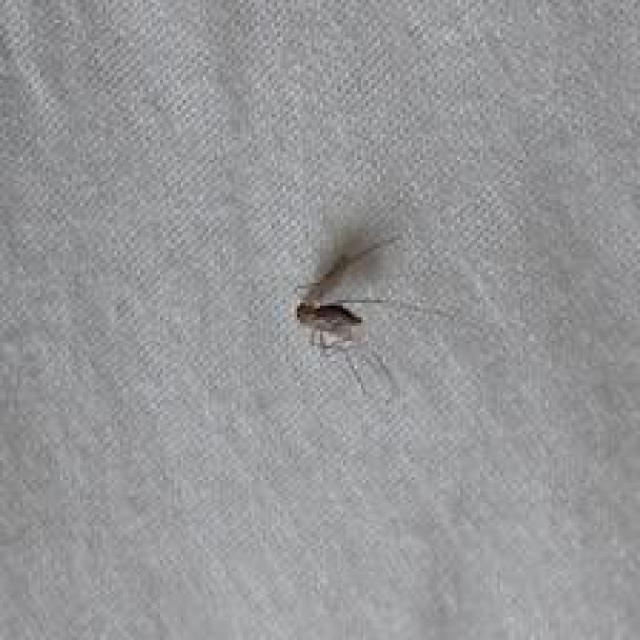Culex: (290, 231, 453, 403)
